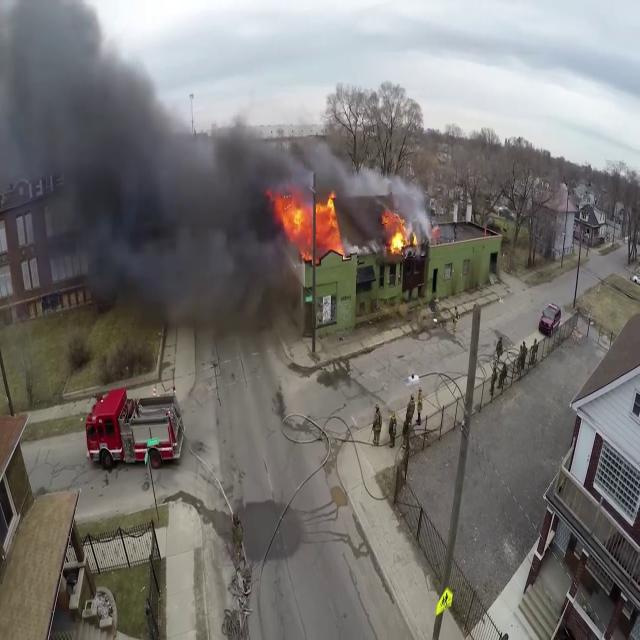Fire: (275, 185, 341, 255), (382, 213, 418, 257)
Smoke: (0, 2, 318, 323)
